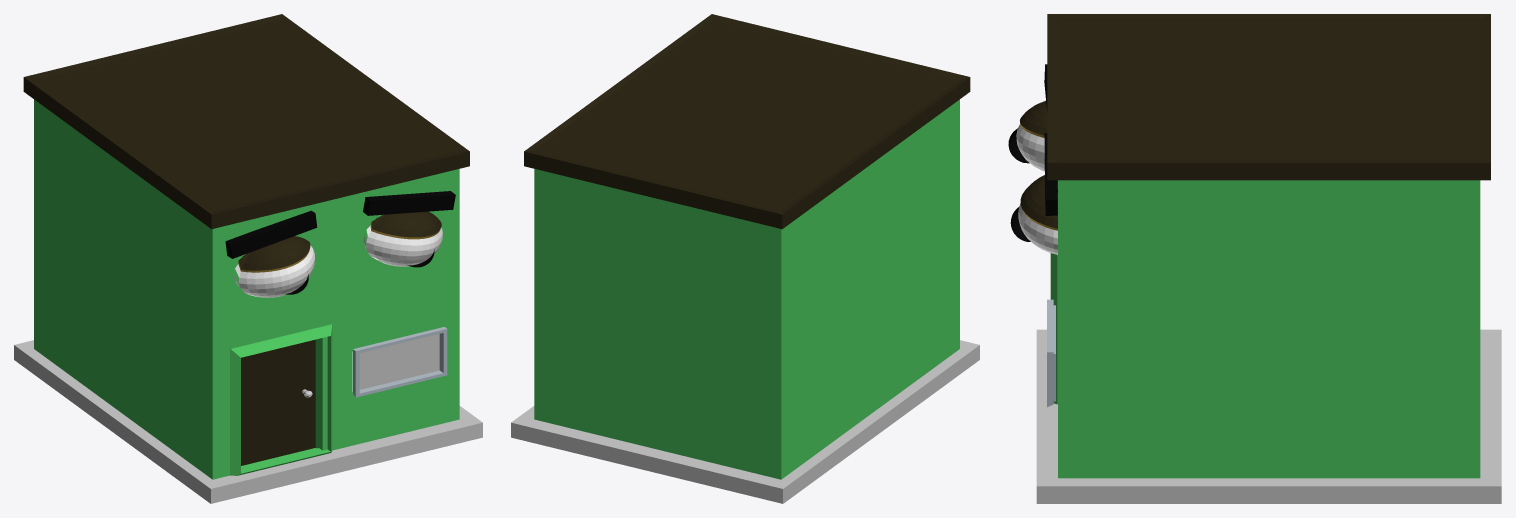
The model's file is building_sm_scared.obj.
3 views of the same model, side by side, from view 1: azimuth 30°, elevation 25°; view 2: azimuth 150°, elevation 25°; view 3: azimuth 270°, elevation 25° (orthographic). The views are drawn at different scales.
Parts seen in each view (by area): view 1: Building_sm_scared; view 2: Building_sm_scared; view 3: Building_sm_scared.
Part boxes in pixels (left/top/right/bottom): Building_sm_scared: left=14, top=14, right=482, bottom=503; Building_sm_scared: left=511, top=14, right=979, bottom=503; Building_sm_scared: left=1008, top=14, right=1501, bottom=503.
Size of the model in its own units: 1.76 by 1.76 by 2.34.
